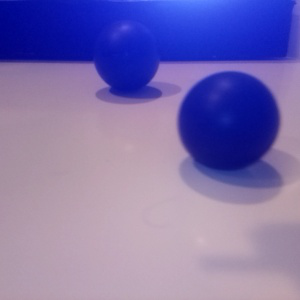dead_ball: (176, 70, 282, 173), (92, 18, 160, 91)
